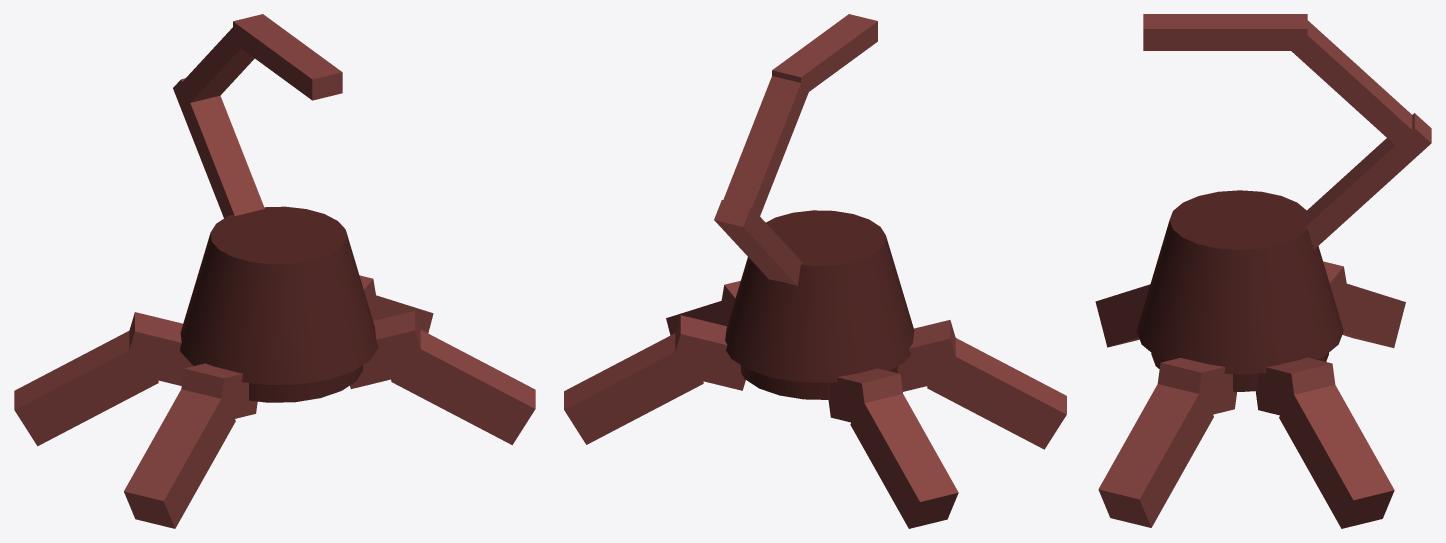
The model's file is Enemy Melee.fbx.
3 renders of one model, left to right at view 1: azimuth 30°, elevation 25°; view 2: azimuth 150°, elevation 25°; view 3: azimuth 270°, elevation 25°, orthographic. The views are drawn at different scales.
Parts seen in each view (by area): view 1: pCylinder1, pCube8, pCube2, pasted__pCube2, pCube3, pCube6, pasted__pCube1, pCube1, pCube7, pCylinder3, pCube5, pCube4 (+1 smaller); view 2: pCylinder1, pasted__pCube2, pCube8, pasted__pCube4, pCube5, pCube6, pasted__pCube3, pCube3, pCube4, pCube7, pasted__pCube1, pCylinder3 (+1 smaller); view 3: pCylinder1, pasted__pCube4, pCube2, pCube6, pCube3, pCube5, pCube4, pasted__pCube3, pasted__pCube2, pCube1, pCube8, pasted__pCube1 (+1 smaller).
Boxes of the visible parts, x1,y1,x2,y2 form: pCylinder1: (180, 206, 378, 384); pCube8: (124, 389, 235, 528); pCube2: (391, 330, 535, 445); pasted__pCube2: (14, 331, 158, 446); pCube3: (173, 78, 264, 218); pCube6: (233, 14, 342, 100); pasted__pCube1: (123, 312, 193, 385); pCube1: (350, 311, 426, 388); pCube7: (181, 363, 257, 418); pCylinder3: (193, 365, 362, 402); pCube5: (177, 27, 254, 102); pCube4: (175, 50, 249, 110); pCylinder1: (725, 210, 914, 382); pasted__pCube2: (850, 394, 958, 528); pCube8: (927, 338, 1066, 449); pasted__pCube4: (564, 333, 703, 444); pCube5: (724, 76, 808, 228); pCube6: (772, 14, 877, 97); pasted__pCube3: (669, 315, 745, 390); pCube3: (714, 200, 802, 286); pCube4: (723, 128, 788, 234); pCube7: (897, 320, 961, 391); pasted__pCube1: (828, 368, 902, 426); pCylinder3: (741, 365, 897, 399); pCylinder1: (1136, 190, 1343, 374); pasted__pCube4: (1279, 385, 1394, 528); pCube2: (1098, 384, 1213, 527); pCube6: (1143, 14, 1307, 50); pCube3: (1303, 113, 1431, 249); pCube5: (1291, 20, 1422, 155); pCube4: (1334, 60, 1426, 158); pasted__pCube3: (1255, 357, 1335, 419); pasted__pCube2: (1337, 283, 1405, 347); pCube1: (1157, 358, 1236, 418); pCube8: (1095, 284, 1150, 347); pasted__pCube1: (1323, 261, 1349, 315).
Bounding box in the file's own units: 283 × 260 × 193.
